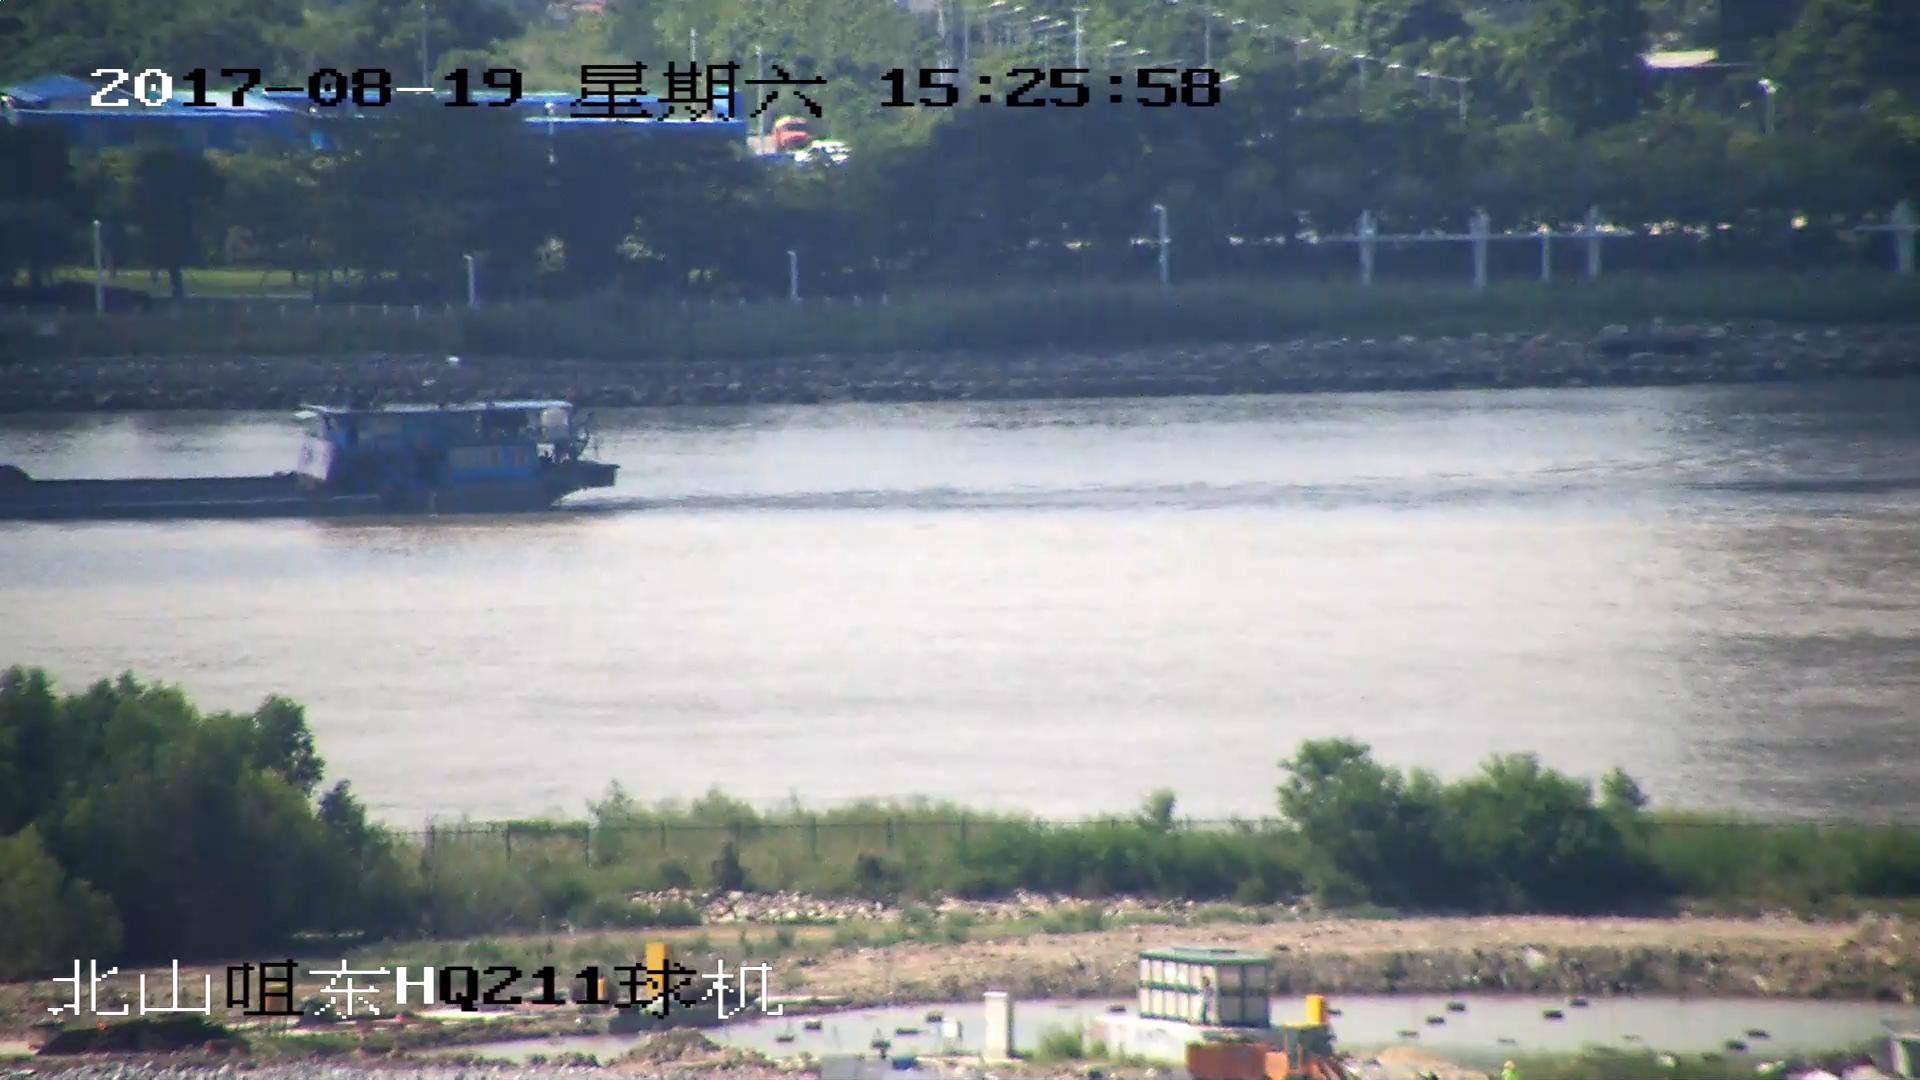ore carrier: (1, 377, 628, 524)
